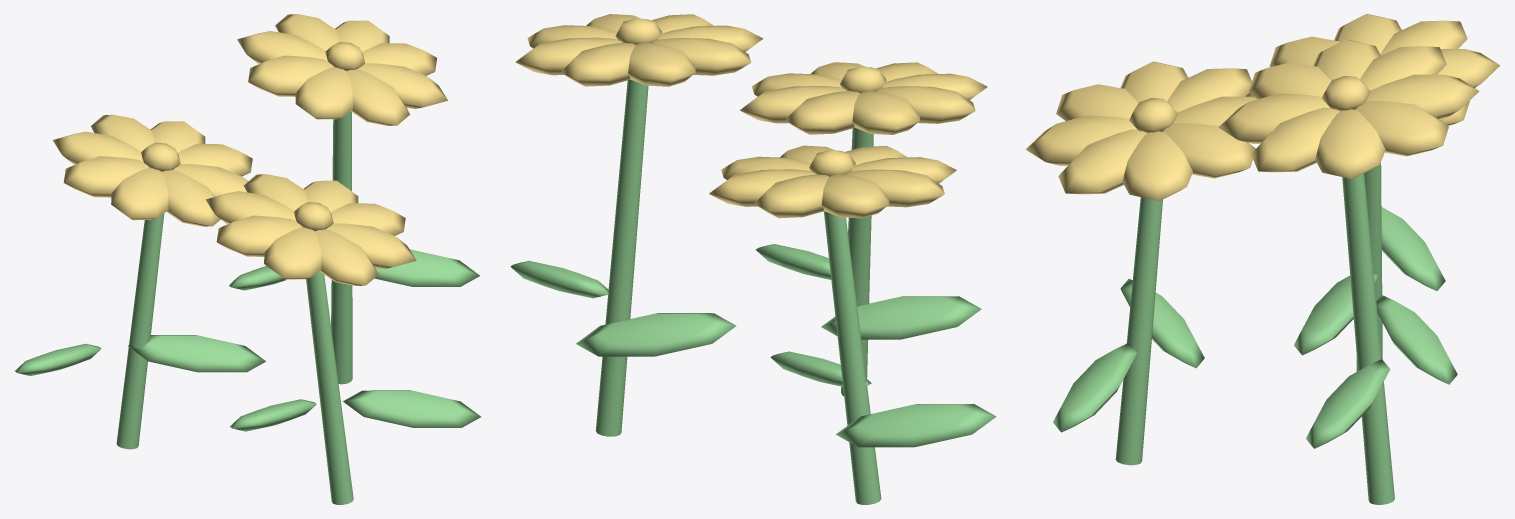
File: flower_1_spring.glb
3 renders of one model, left to right at view 1: azimuth 30°, elevation 25°; view 2: azimuth 150°, elevation 25°; view 3: azimuth 270°, elevation 25°, orthographic. The views are drawn at different scales.
Bounding box in the file's own units: 0.5021 × 0.4001 × 0.3944.
